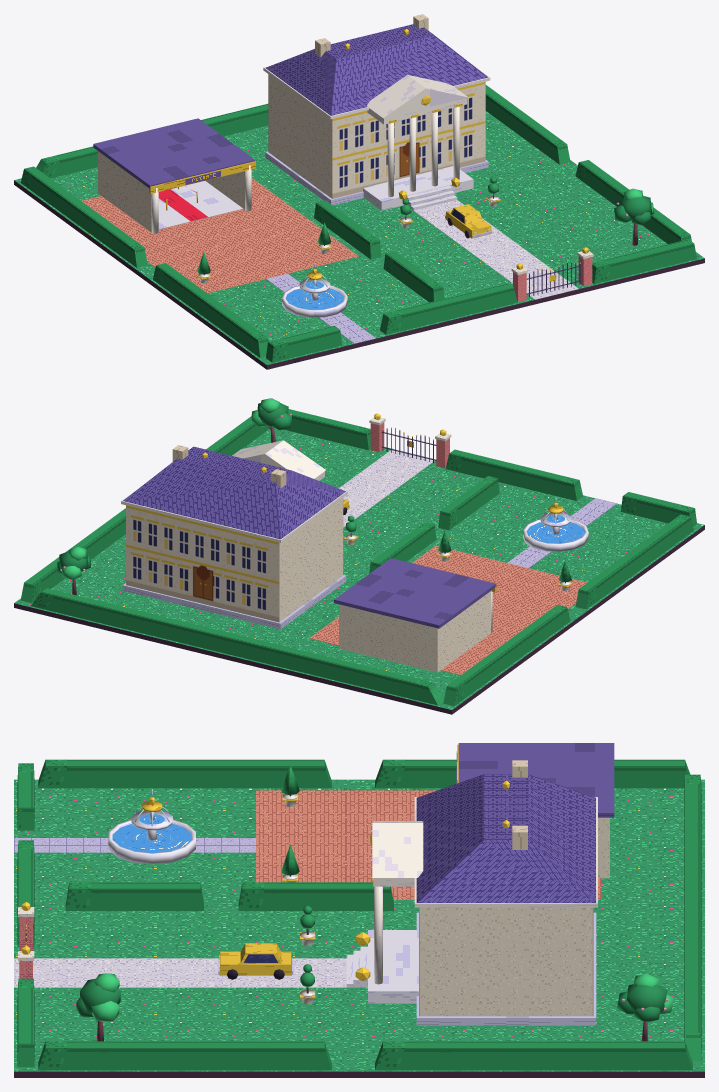
Rendered from Vault Mansion.fbx.
3 views of the same model, one above another, from view 1: azimuth 30°, elevation 25°; view 2: azimuth 150°, elevation 25°; view 3: azimuth 270°, elevation 25° (orthographic). The views are drawn at different scales.
Visible parts, largest first — view 1: Vault Mansion props mesh, Vault Mansion ground, Vault Mansion mansion mesh, Vault Mansion vault room mesh; view 2: Vault Mansion props mesh, Vault Mansion ground, Vault Mansion mansion mesh, Vault Mansion vault room mesh; view 3: Vault Mansion ground, Vault Mansion props mesh, Vault Mansion mansion mesh, Vault Mansion vault room mesh.
Part boxes in pixels (left/top/right/bottom): Vault Mansion props mesh: left=20, top=85, right=696, bottom=362; Vault Mansion ground: left=14, top=111, right=704, bottom=369; Vault Mansion mansion mesh: left=263, top=14, right=490, bottom=210; Vault Mansion vault room mesh: left=93, top=118, right=255, bottom=233; Vault Mansion props mesh: left=20, top=398, right=696, bottom=706; Vault Mansion ground: left=14, top=428, right=704, bottom=714; Vault Mansion mansion mesh: left=121, top=440, right=347, bottom=629; Vault Mansion vault room mesh: left=334, top=558, right=496, bottom=672; Vault Mansion ground: left=14, top=779, right=704, bottom=1077; Vault Mansion props mesh: left=14, top=759, right=701, bottom=1070; Vault Mansion mansion mesh: left=346, top=760, right=597, bottom=1025; Vault Mansion vault room mesh: left=456, top=743, right=614, bottom=878.
Bounding box in the file's own units: 40 × 11.7 × 40.
35 materials, 35 textured.
